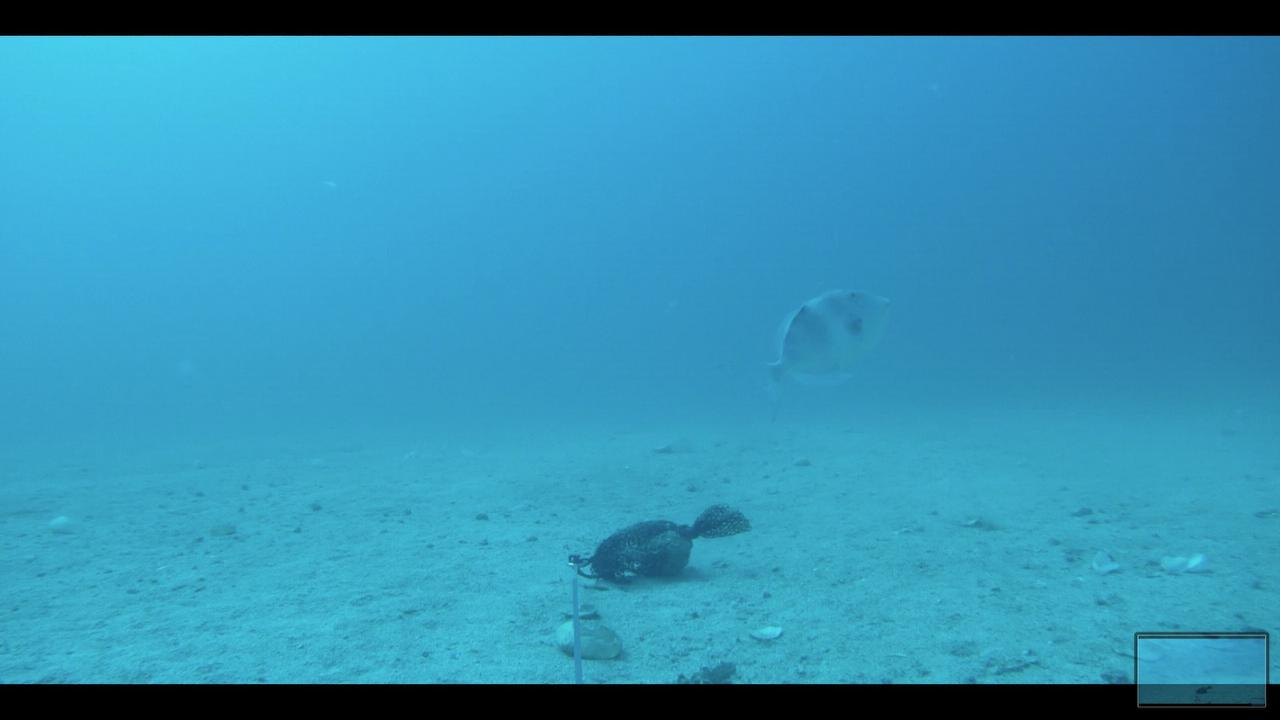balistes: (742, 279, 894, 427)
